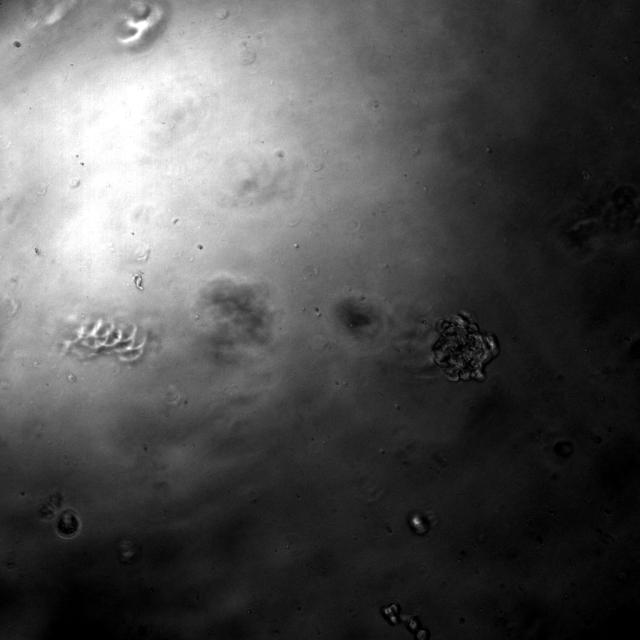organoid: (190, 274, 274, 361), (432, 311, 499, 381), (62, 318, 146, 362), (329, 293, 390, 347), (381, 602, 430, 639), (55, 508, 81, 539), (408, 512, 430, 534)
